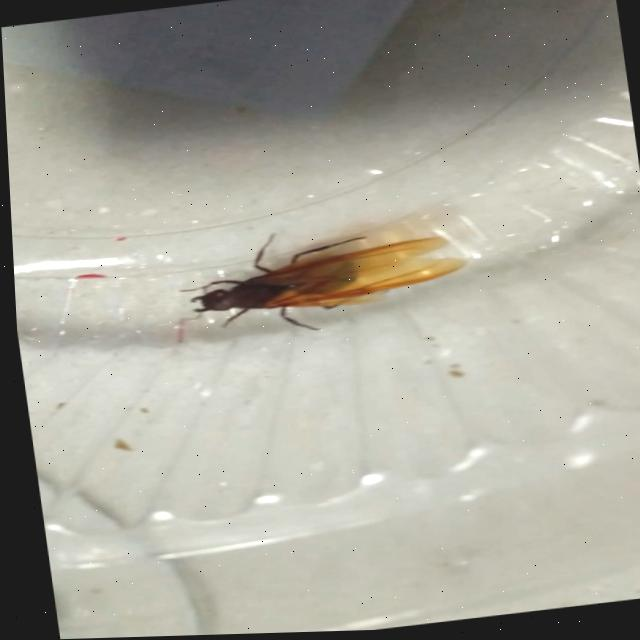Alive-Female-Alate: (168, 213, 472, 348)
